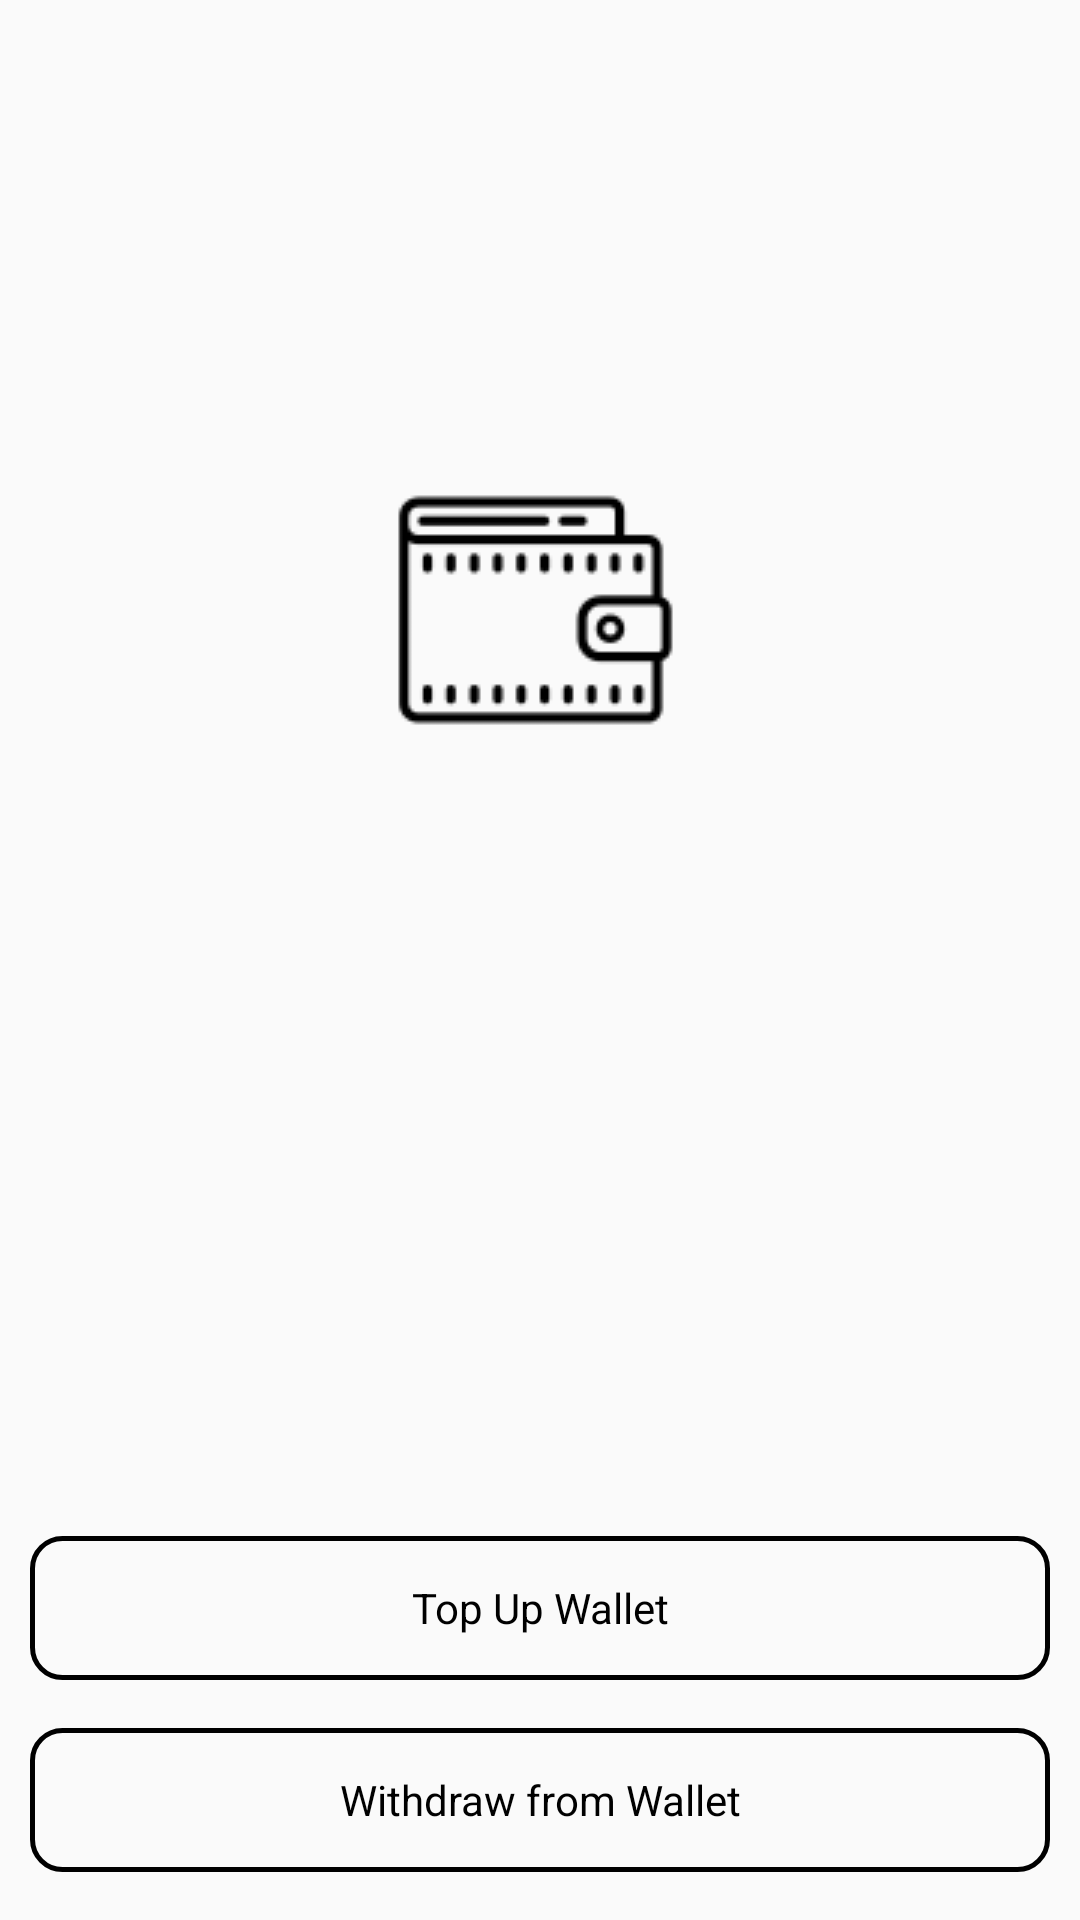

Icon bounding boxes for this 1080w x 1920h phone screenshot, format (x1, y1, x2, y2):
wallet: (398, 495, 673, 725)
